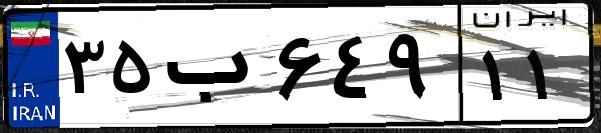1: (475, 38, 525, 113), (525, 38, 570, 115)
3: (57, 26, 110, 100)
4: (330, 28, 385, 110)
5: (110, 28, 158, 98)
6: (270, 28, 330, 110)
9: (385, 28, 445, 110)
ب: (158, 20, 270, 120)
